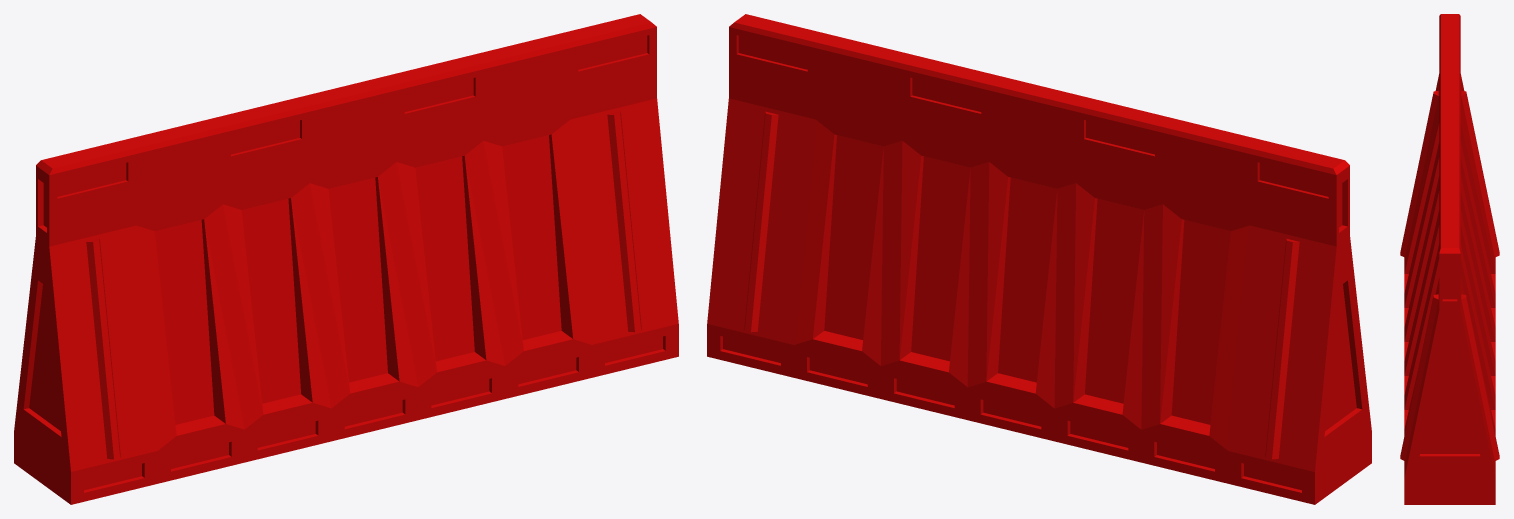
Rendered from PlasticBarrier.glb.
3 renders of one model, left to right at view 1: azimuth 30°, elevation 25°; view 2: azimuth 150°, elevation 25°; view 3: azimuth 270°, elevation 25°, orthographic. The views are drawn at different scales.
Visible parts, largest first — view 1: PlasticBarrier; view 2: PlasticBarrier; view 3: PlasticBarrier.
Part boxes in pixels (x1,y1,x2,y2): PlasticBarrier: [14, 14, 678, 504]; PlasticBarrier: [707, 14, 1371, 504]; PlasticBarrier: [1400, 14, 1499, 504].
Size of the model in its own units: 8.89 by 4.45 by 1.58.
